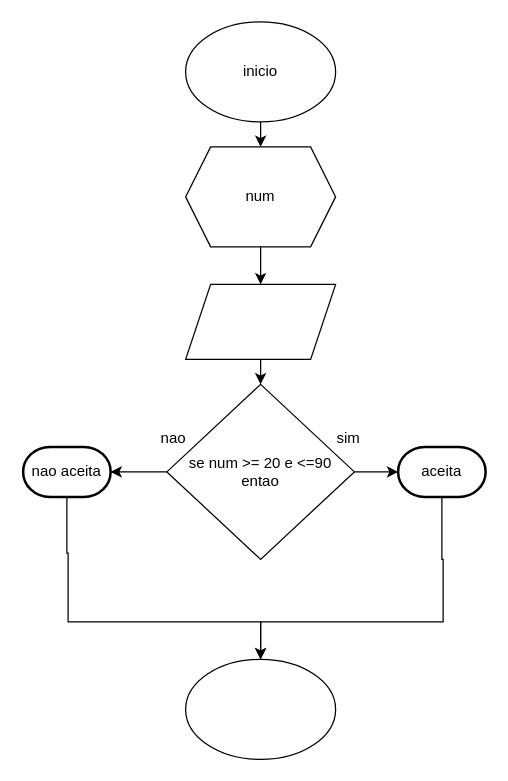
This 508x781 diagram has some shape labels left out. Each missing label, with the centre of its shape:
"fim" belongs at point (260, 708).
"ler num" belongs at point (260, 321).
